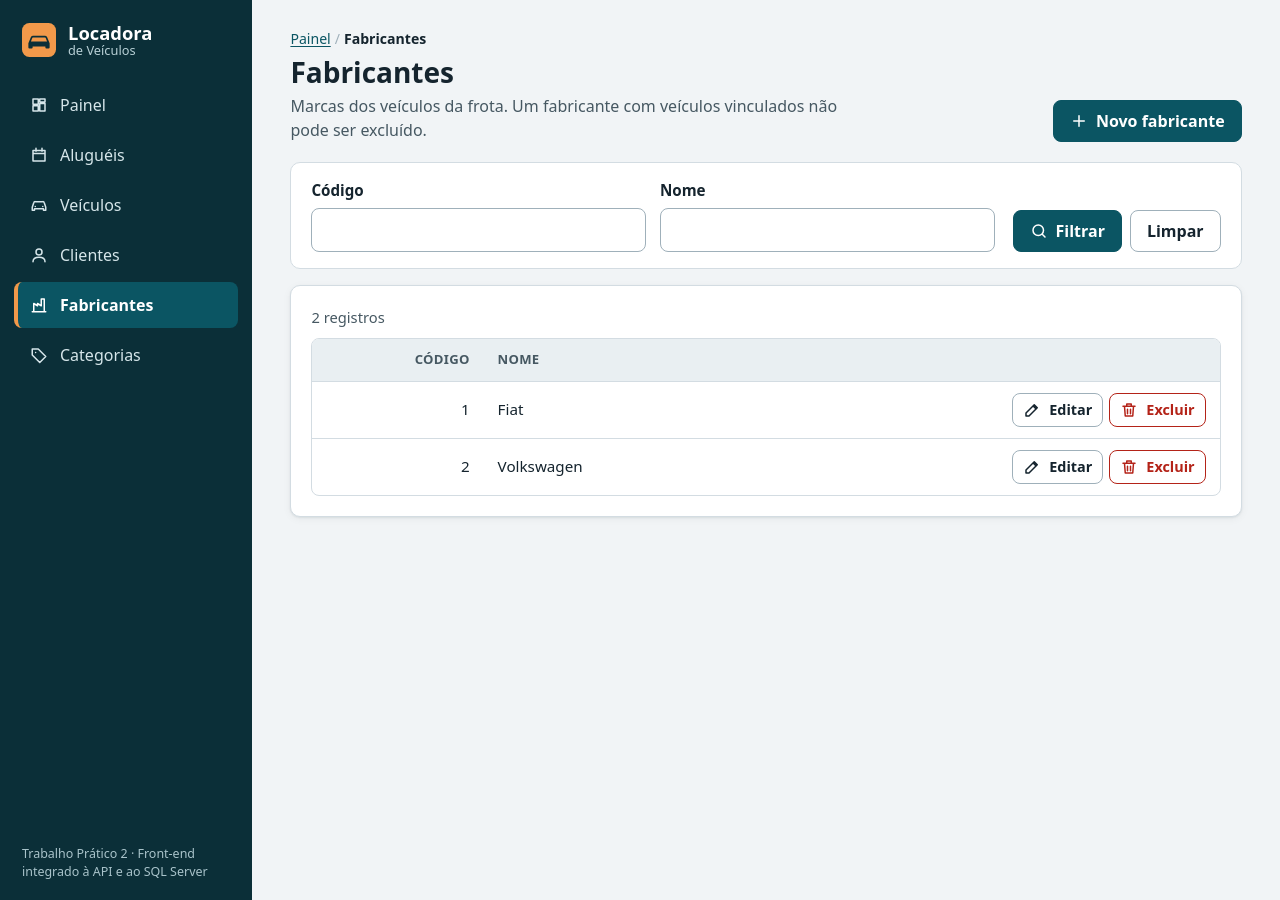
Scenario: Fabricantes › exibe a mensagem da API ao receber 409 por vínculos
Click the button with aria-label "Excluir fabricante Fiat": click(1157, 410) x1=1109 y1=393 x2=1206 y2=427
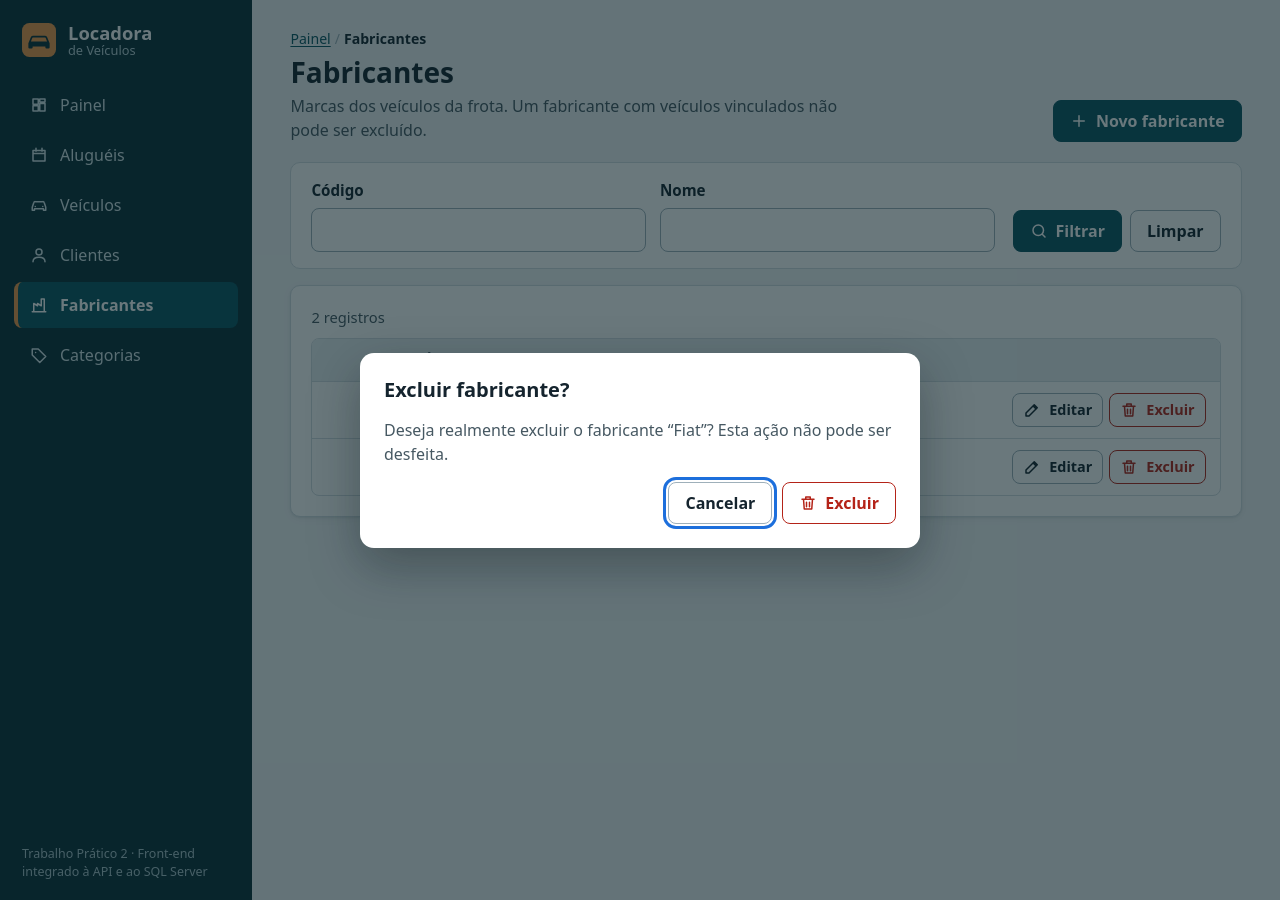
Click the button "Excluir": click(839, 502) x1=782 y1=482 x2=896 y2=524
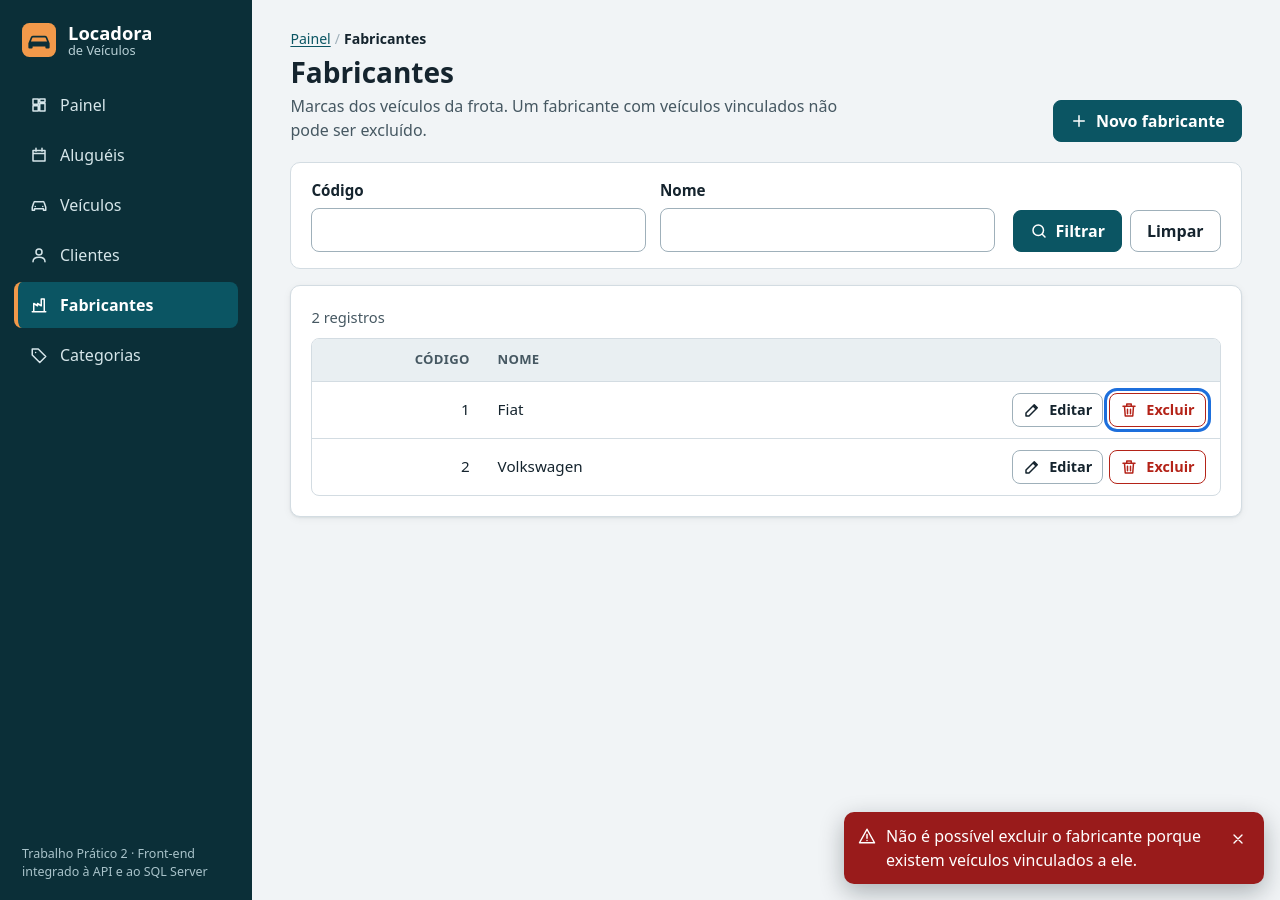
Expected: the text "Fiat" is shown, x1=484 y1=381 x2=717 y2=438
Expected: the message reads "Não é possível excluir o fabricante porque existem veículos vinculados a ele.", x1=886 y1=825 x2=1201 y2=871
